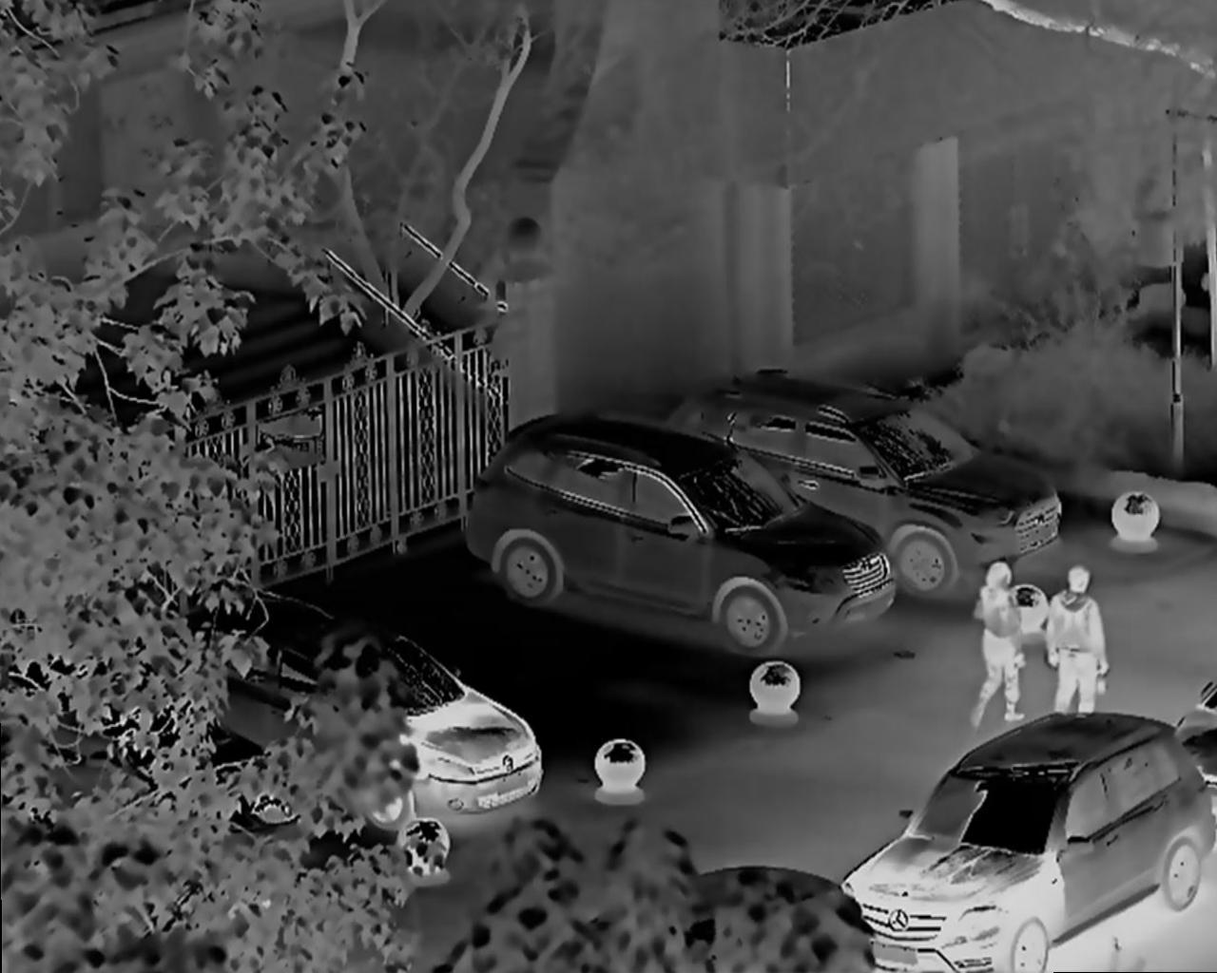person: (967, 555, 1031, 721), (1050, 563, 1111, 721)
